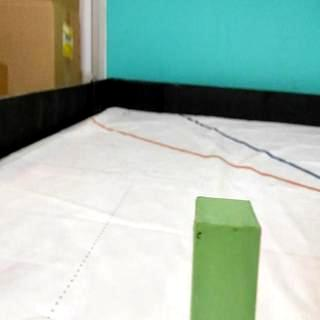greenbox: (188, 194, 262, 320)
